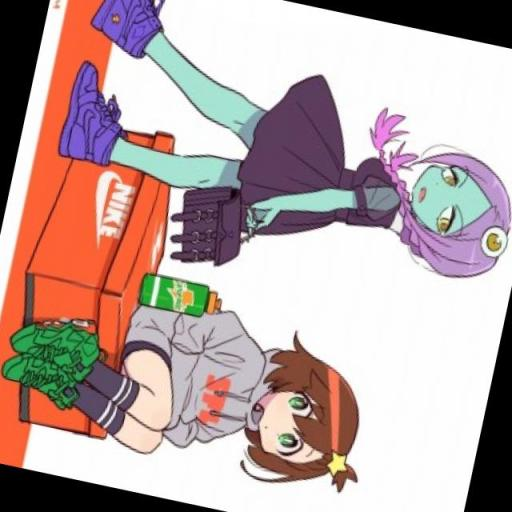Nike: (98, 180, 138, 245), (84, 167, 114, 238)
